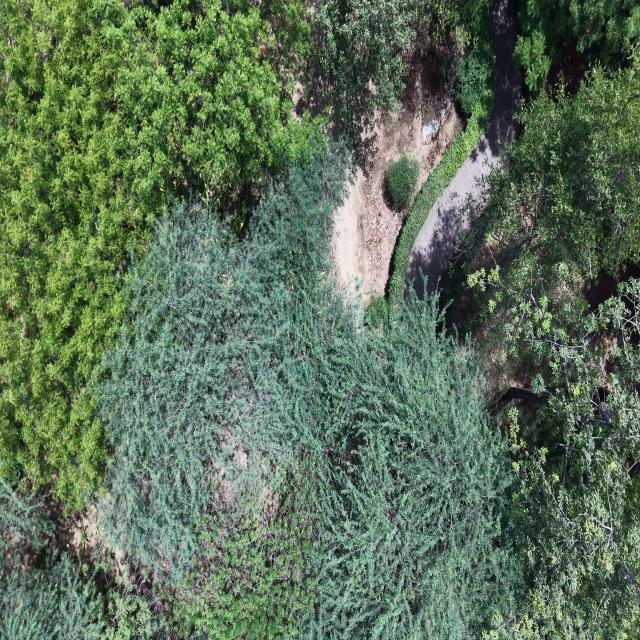DRY_AREA: (332, 37, 462, 305), (333, 38, 462, 306)
PATHWAYS: (405, 0, 521, 299)
VEGETATION_TREE: (0, 0, 639, 639), (0, 0, 483, 507), (97, 150, 513, 637), (0, 147, 355, 637), (0, 0, 318, 507), (97, 147, 354, 637), (454, 58, 639, 637), (96, 147, 345, 569), (310, 298, 518, 638), (492, 279, 639, 638), (465, 58, 639, 344), (386, 5, 494, 311), (0, 480, 151, 639), (388, 92, 493, 310), (311, 0, 488, 128), (170, 486, 313, 639), (312, 0, 430, 127), (515, 0, 639, 94), (0, 553, 106, 639), (455, 5, 495, 118), (0, 479, 52, 551), (456, 43, 494, 117), (514, 31, 550, 97), (386, 154, 419, 209), (366, 296, 388, 326)
